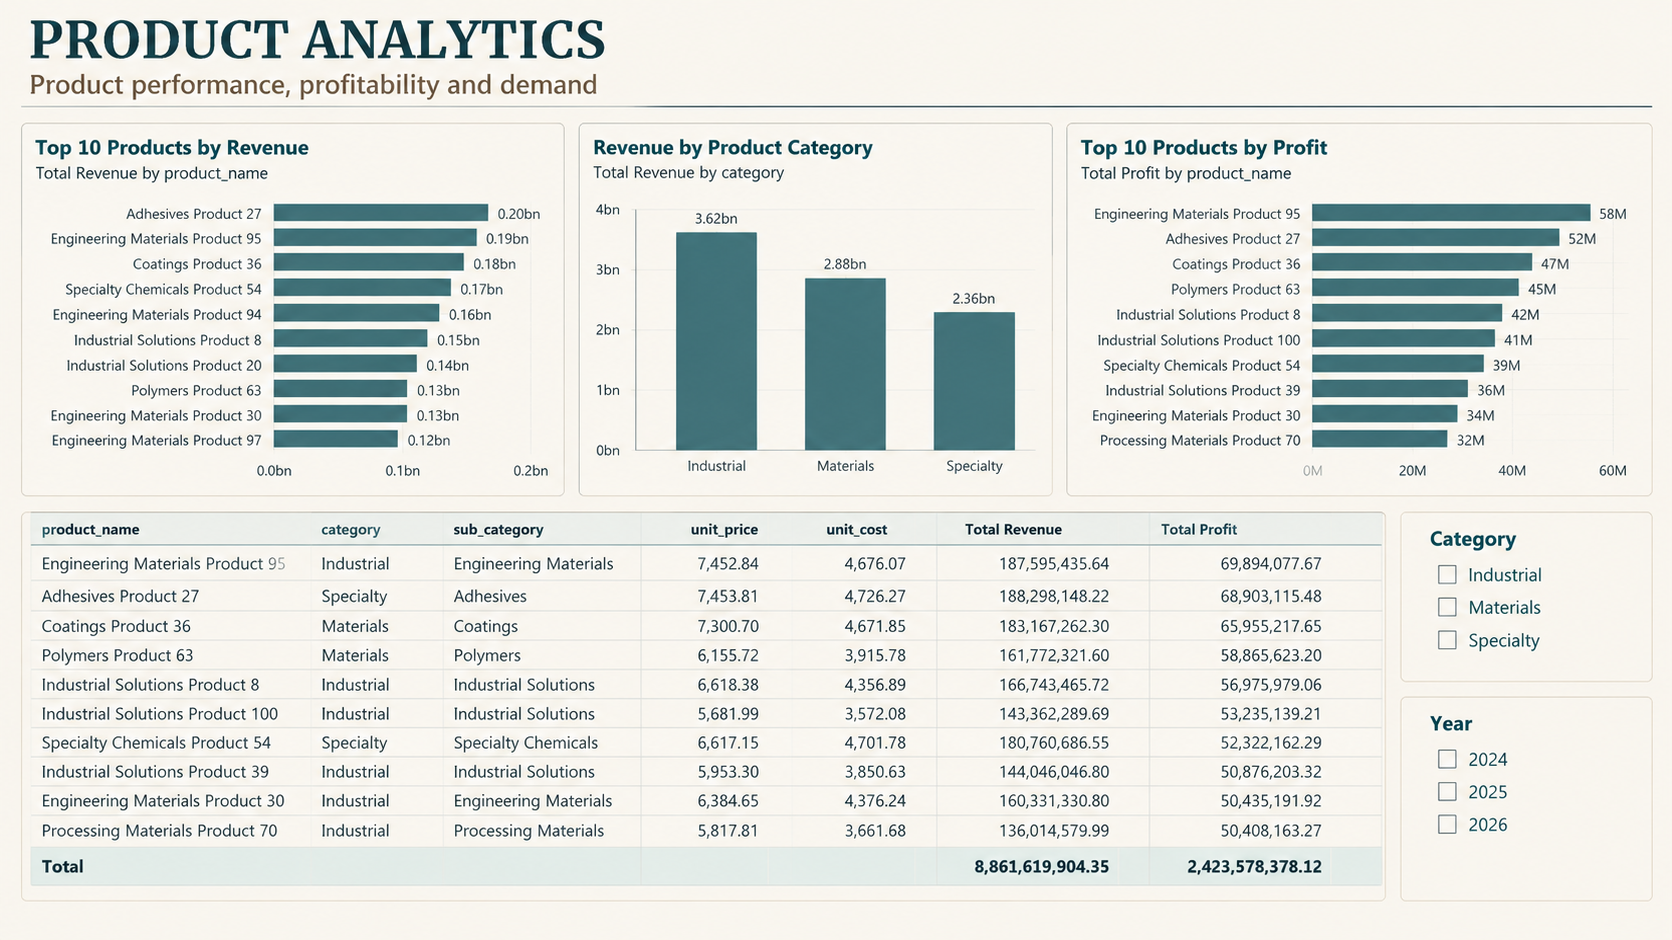

Layout of this report page (visuals, bound fields, positions):
{"tool":"powerbi","page":{"name":"Product Analytics","canvas":[1920,1080],"ordinal":1},"visuals":[{"type":"textbox","box":[0,0,1920,98.2],"z":0},{"type":"clusteredBarChart","title":"Top 10 Products by Revenue","fields":{"Category":["public dim_product.product_name"],"Y":["public dim_customer.Total Revenue"]},"box":[0,100,610.7,378.6],"z":1000},{"type":"clusteredColumnChart","title":"Revenue by Product Category","fields":{"Category":["public dim_product.category"],"Y":["public dim_customer.Total Revenue"]},"box":[610.7,98.2,666.1,378.6],"z":2000},{"type":"clusteredBarChart","title":"Top 10 Products by Profit","fields":{"Category":["public dim_product.product_name"],"Y":["public dim_customer.Total Profit"]},"box":[1276.8,98.2,642.9,378.6],"z":3000},{"type":"tableEx","fields":{"Values":["public dim_product.product_name","public dim_product.category","public dim_product.sub_category","public dim_product.unit_price","public dim_product.unit_cost","public dim_customer.Total Revenue","public dim_customer.Total Profit"]},"box":[0,490,1024,590],"z":4000},{"type":"slicer","fields":{"Values":["public dim_product.category"]},"box":[1024,490,253,590],"z":5000},{"type":"slicer","fields":{"Values":["public dim_date.year"]},"box":[1277.6,489.8,259.2,589.8],"z":6000}]}

Visuals, with their boxes in screenshot pixels (x1, y1, x2, y2), scaled from the page's 1920x1080 canvas onto the 1672x940 screenshot:
textbox: 0, 0, 1671, 85
"Top 10 Products by Revenue" clusteredBarChart: 0, 87, 532, 417
"Revenue by Product Category" clusteredColumnChart: 532, 85, 1112, 415
"Top 10 Products by Profit" clusteredBarChart: 1112, 85, 1671, 415
tableEx - public dim_product.product_name x public dim_product.category: 0, 426, 892, 939
slicer - public dim_product.category: 892, 426, 1112, 939
slicer - public dim_date.year: 1113, 426, 1338, 939
